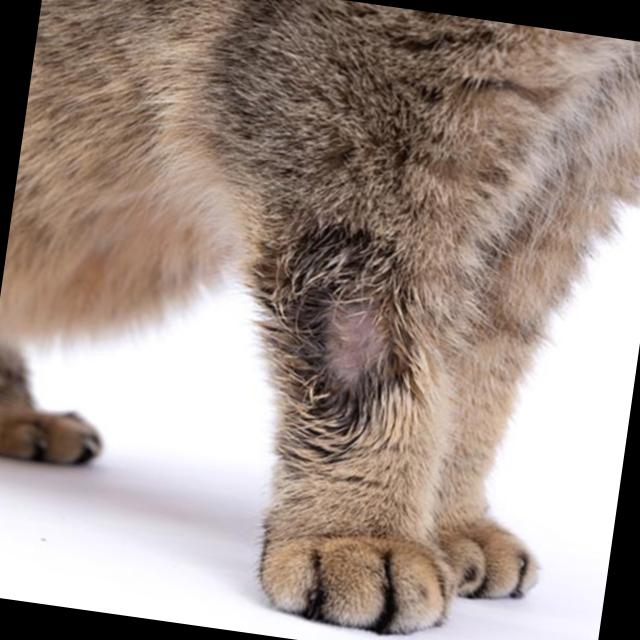Ringworm: (310, 284, 398, 392)
